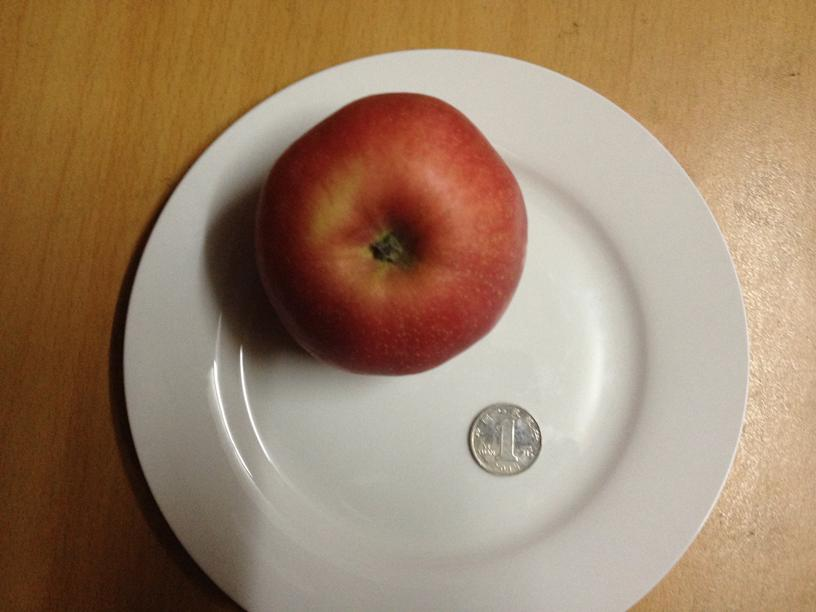apple: (246, 90, 528, 376)
coin: (469, 399, 541, 474)
